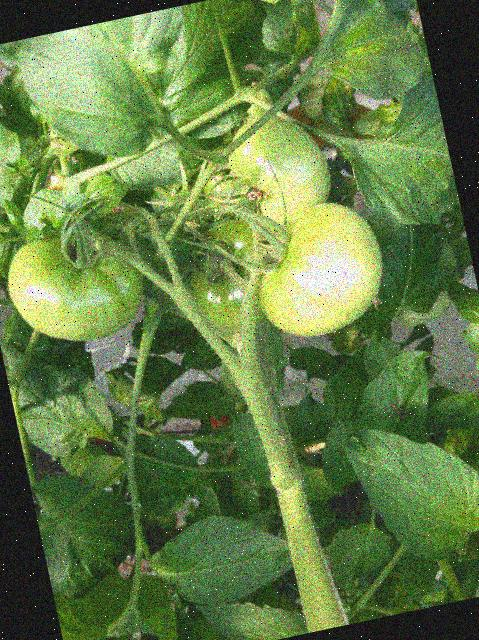b_green: (241, 193, 396, 346), (0, 219, 154, 355), (221, 106, 343, 248), (175, 210, 300, 340), (200, 77, 284, 164), (200, 168, 240, 214)
